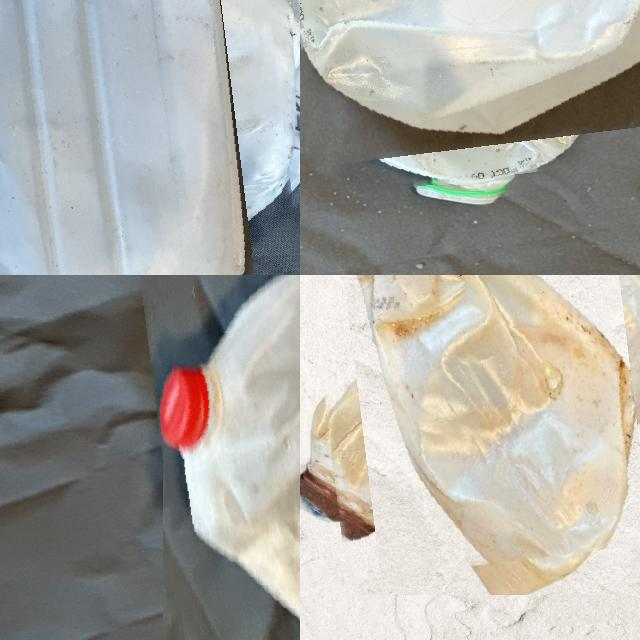milk-jug: (315, 275, 640, 570), (0, 0, 292, 275), (300, 0, 640, 187), (150, 275, 300, 640)
